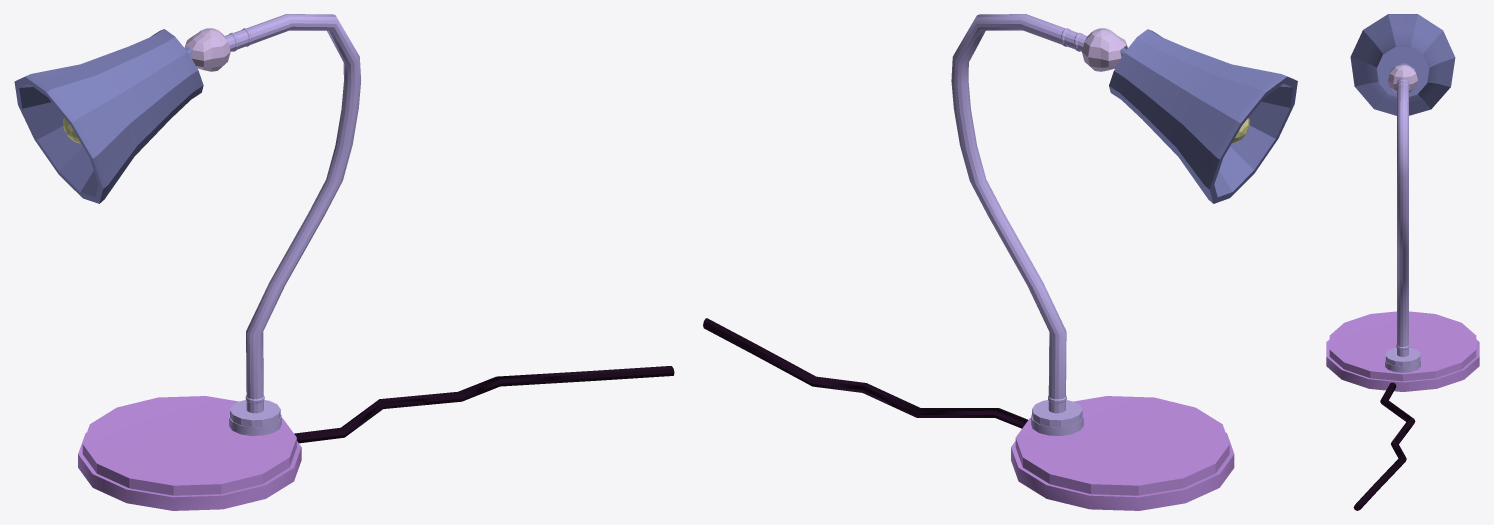
Rendered from Lamp.fbx.
3 views of the same model, side by side, from view 1: azimuth 30°, elevation 25°; view 2: azimuth 150°, elevation 25°; view 3: azimuth 270°, elevation 25° (orthographic). The views are drawn at different scales.
Visible parts, largest first — view 1: pSphere5; view 2: pSphere5; view 3: pSphere5.
Part boxes in pixels (x1=…): pSphere5: x1=14, y1=14, x2=674, y2=510; pSphere5: x1=703, y1=14, x2=1297, y2=510; pSphere5: x1=1326, y1=14, x2=1479, y2=510.
Size of the model in its own units: 190 by 131 by 59.61.
